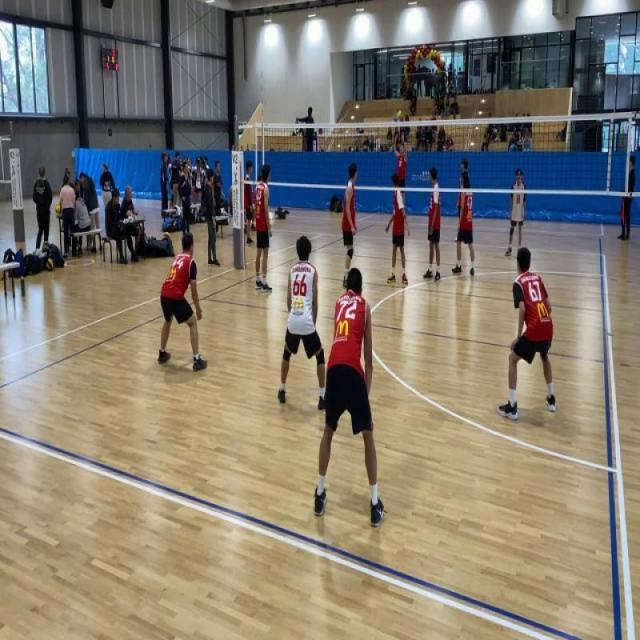volleyball: (46, 256, 54, 272), (396, 109, 404, 121), (54, 203, 61, 214), (163, 231, 170, 239), (147, 234, 154, 241)
